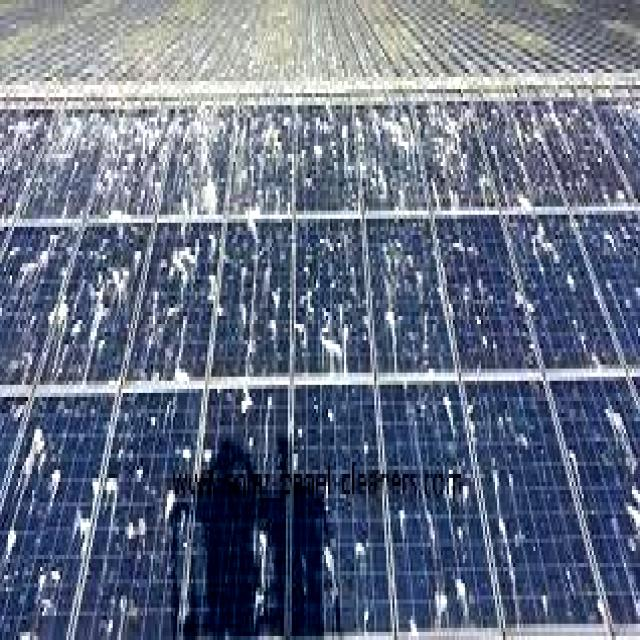bird: (518, 213, 588, 301), (374, 233, 432, 339), (96, 449, 146, 564), (444, 222, 496, 325), (232, 244, 283, 340), (85, 252, 134, 343), (30, 264, 74, 362), (548, 115, 608, 181), (361, 111, 414, 184), (165, 228, 211, 306), (175, 118, 218, 198), (426, 558, 476, 624), (234, 377, 272, 459), (308, 303, 356, 367), (600, 396, 628, 504), (426, 362, 462, 444), (33, 553, 70, 631), (434, 141, 479, 201), (396, 500, 446, 550), (18, 421, 42, 525), (315, 528, 342, 612), (483, 467, 537, 504), (529, 572, 570, 612), (350, 532, 375, 580)
